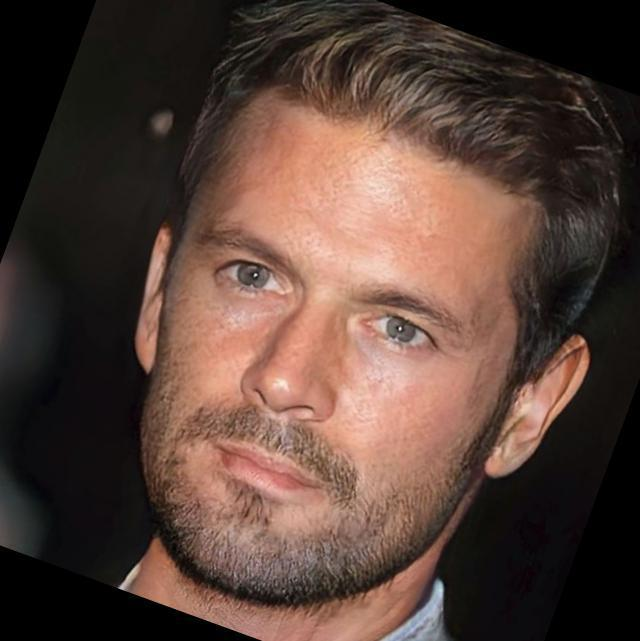Sober: (176, 136, 488, 543)
